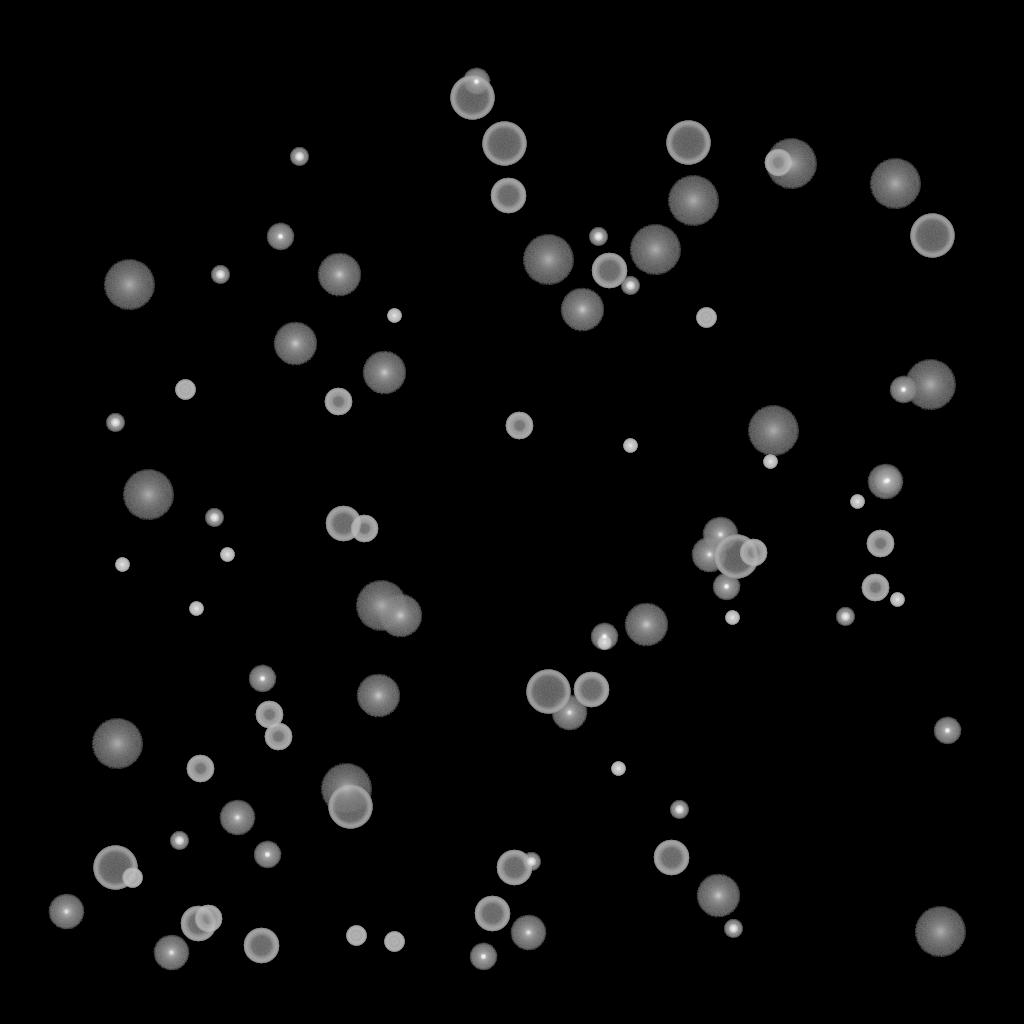depth:-10: (873, 467, 901, 495), (933, 717, 961, 745), (889, 376, 917, 404), (469, 943, 497, 971), (266, 223, 294, 251), (462, 68, 490, 96), (712, 573, 740, 601), (253, 841, 281, 869), (248, 665, 276, 693), (590, 623, 618, 651)
depth:-20: (836, 608, 854, 626), (170, 832, 188, 850), (621, 277, 639, 295), (205, 509, 223, 527), (106, 414, 124, 432), (211, 266, 229, 284), (670, 801, 688, 819), (589, 228, 607, 246), (522, 853, 540, 871), (290, 148, 308, 166), (724, 920, 742, 938)
depth:-30: (623, 439, 637, 453), (387, 309, 401, 323), (850, 495, 864, 509), (220, 548, 234, 562), (725, 611, 739, 625), (597, 636, 611, 650), (890, 593, 904, 607), (611, 762, 625, 776), (189, 602, 203, 616), (115, 558, 129, 572), (763, 455, 777, 469)
depth:-40: (384, 932, 404, 952), (696, 308, 716, 328), (175, 380, 195, 400), (122, 868, 142, 888), (346, 926, 366, 946)
depth:-50: (866, 530, 894, 558), (764, 149, 792, 177), (739, 539, 767, 567), (194, 905, 222, 933), (324, 388, 352, 416), (505, 412, 533, 440), (264, 723, 292, 751), (186, 755, 214, 783), (255, 701, 283, 729), (861, 574, 889, 602), (350, 515, 378, 543)
depth:-60: (325, 506, 361, 542), (653, 840, 689, 876), (474, 896, 510, 932), (591, 253, 627, 289), (490, 178, 526, 214), (573, 672, 609, 708), (243, 928, 279, 964), (496, 850, 532, 886), (180, 906, 216, 942)
depth:-70: (482, 122, 526, 166), (666, 121, 710, 165), (526, 670, 570, 714), (450, 76, 494, 120), (93, 846, 137, 890), (328, 785, 372, 829), (910, 214, 954, 258), (714, 535, 758, 579)
depth:0: (691, 537, 727, 573), (48, 894, 84, 930), (510, 915, 546, 951), (702, 517, 738, 553), (867, 464, 903, 500), (551, 695, 587, 731), (153, 935, 189, 971), (219, 800, 255, 836)
depth:10: (317, 253, 361, 297), (356, 674, 400, 718), (560, 288, 604, 332), (273, 322, 317, 366), (624, 603, 668, 647), (378, 594, 422, 638), (696, 874, 740, 918), (362, 351, 406, 395)
depth:20: (765, 139, 817, 189), (629, 225, 681, 275), (91, 719, 143, 769), (667, 176, 719, 226), (320, 764, 372, 814), (355, 581, 407, 631), (914, 907, 966, 957), (747, 406, 799, 456), (869, 159, 921, 209), (103, 260, 155, 310), (522, 235, 574, 285), (122, 470, 174, 520), (904, 360, 956, 410)
